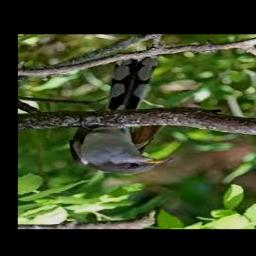Cuckoo: (69, 56, 174, 174)
